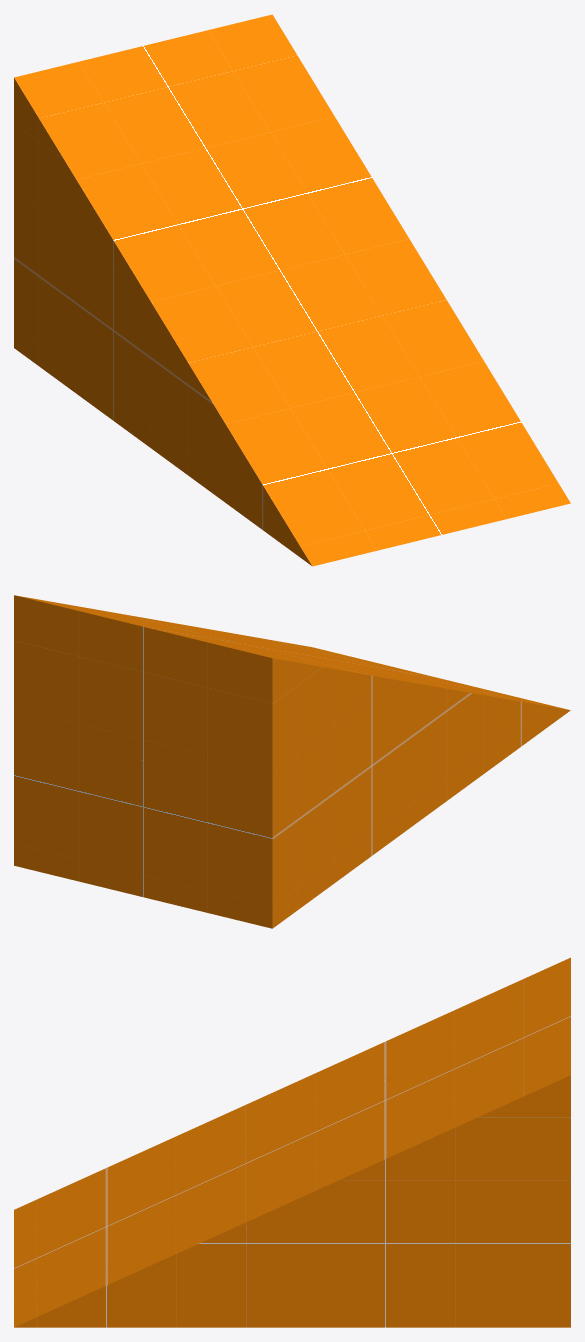
Rendered from OrangeRamp1m-col.GLB.
3 views of the same model, one above another, from view 1: azimuth 30°, elevation 25°; view 2: azimuth 150°, elevation 25°; view 3: azimuth 270°, elevation 25° (orthographic). The views are drawn at different scales.
Visible parts, largest first — view 1: OrangeRamp1m-col; view 2: OrangeRamp1m-col; view 3: OrangeRamp1m-col.
Boxes of the visible parts, x1,y1,x2,y2 form: OrangeRamp1m-col: [14, 14, 570, 566]; OrangeRamp1m-col: [14, 595, 570, 928]; OrangeRamp1m-col: [14, 957, 570, 1327].
Bounding box in the file's own units: 1 × 1 × 2.
1 material, 1 textured.
